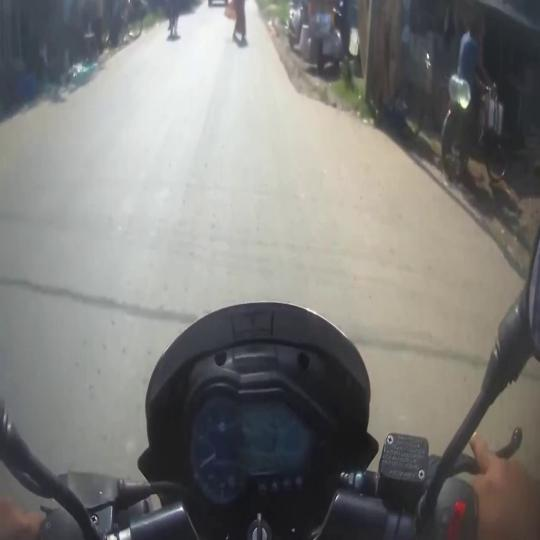Speed Bump: (0, 270, 188, 326), (363, 328, 489, 362), (528, 364, 540, 384)
